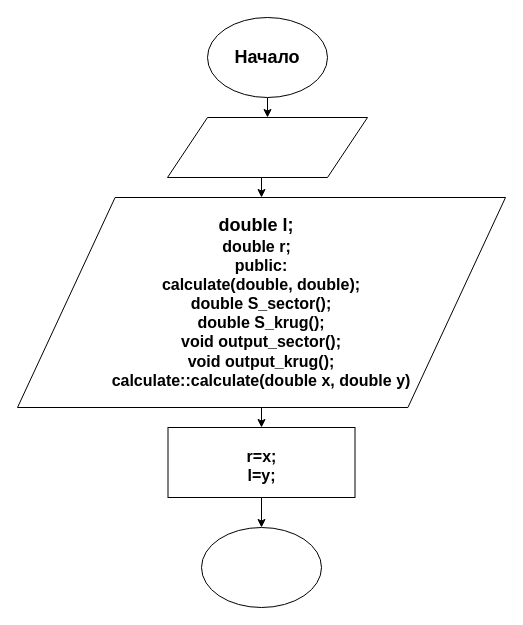
The diagram is 523 pixels wide and 625 high, and some of its shapes have lost their labels. The shapes that lost their labels are listed below. From the top down, each one's centre as x and y in pixels, then its label:
At point 267,147: "class calculate".
At point 261,567: "Конец".
